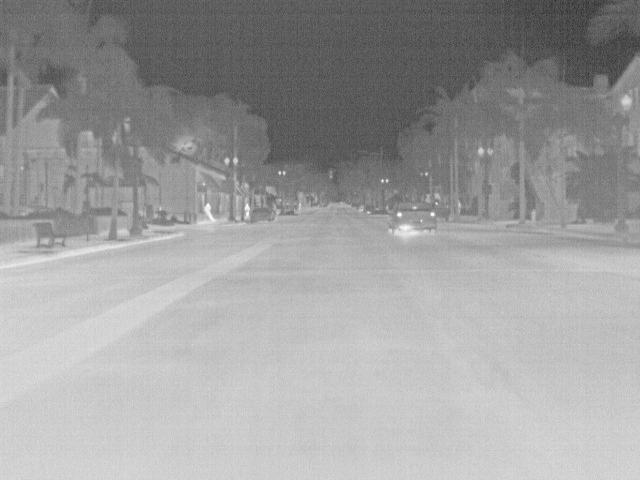car: (386, 200, 436, 235), (249, 207, 276, 223)
person: (204, 200, 214, 220), (243, 202, 252, 222)
